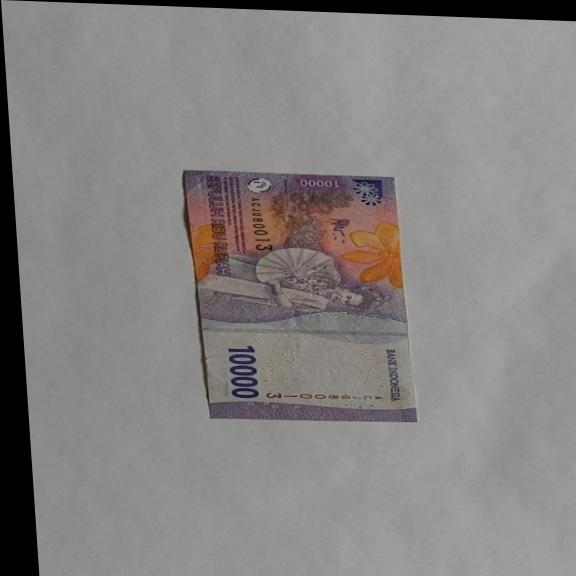Kertas: (181, 168, 418, 426), (224, 344, 262, 400)
